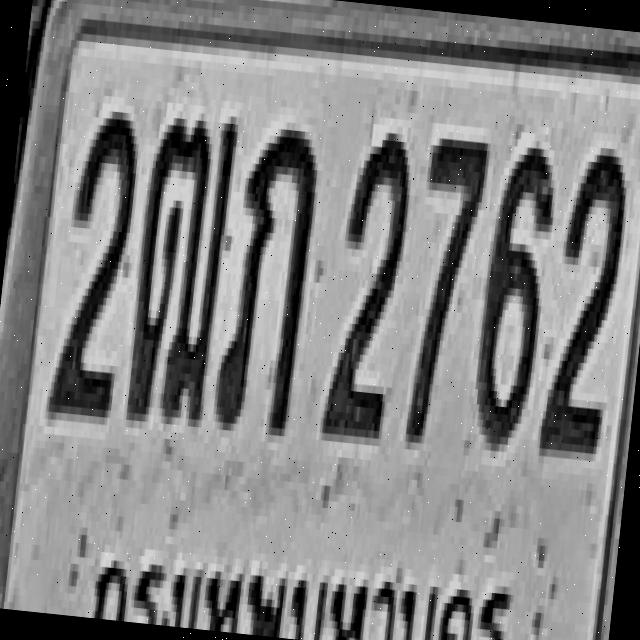2: (318, 125, 416, 442), (45, 104, 142, 422), (538, 140, 632, 458)
27ThorPhuThao: (122, 108, 240, 428)
41PhorSamPhao: (211, 118, 321, 436)
6: (468, 137, 559, 446)
7: (400, 130, 490, 447)
